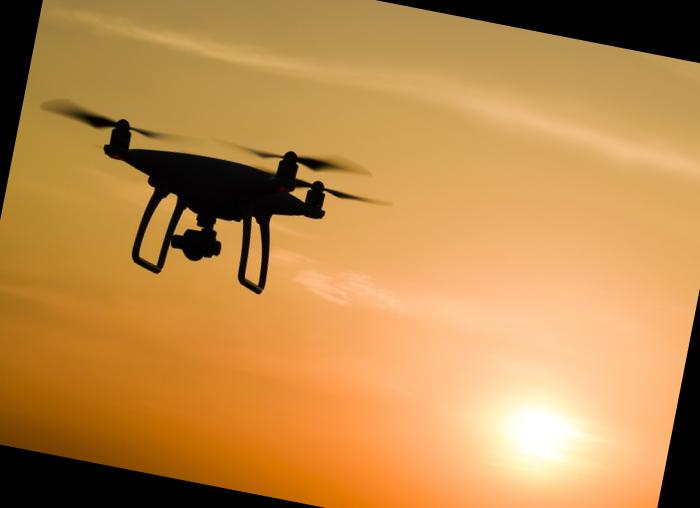drone: (37, 92, 388, 277)
